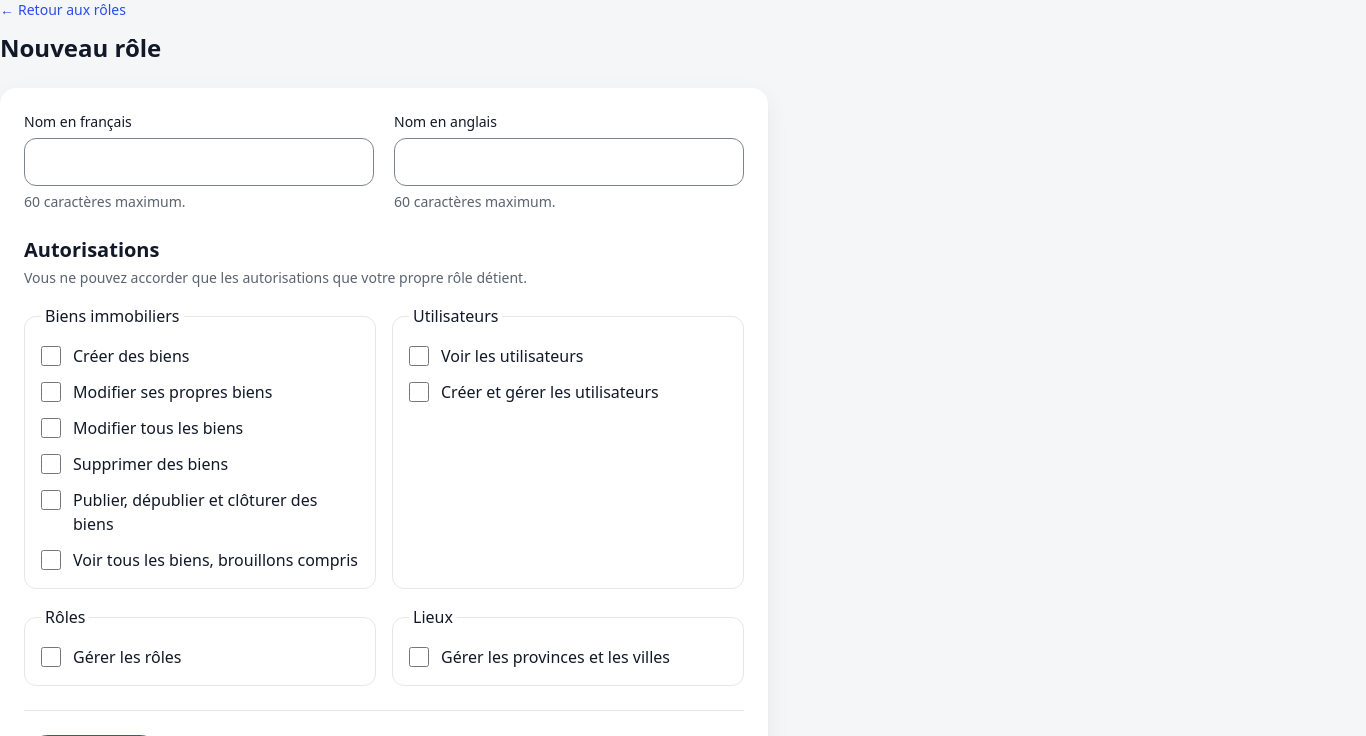
Test: RoleForm (fr) › new role › shows server errors in the current language
The width and height of the screenshot is (1366, 736).
Clear the field labelled "Nom en français" at (199, 162), box [24,138,374,186]
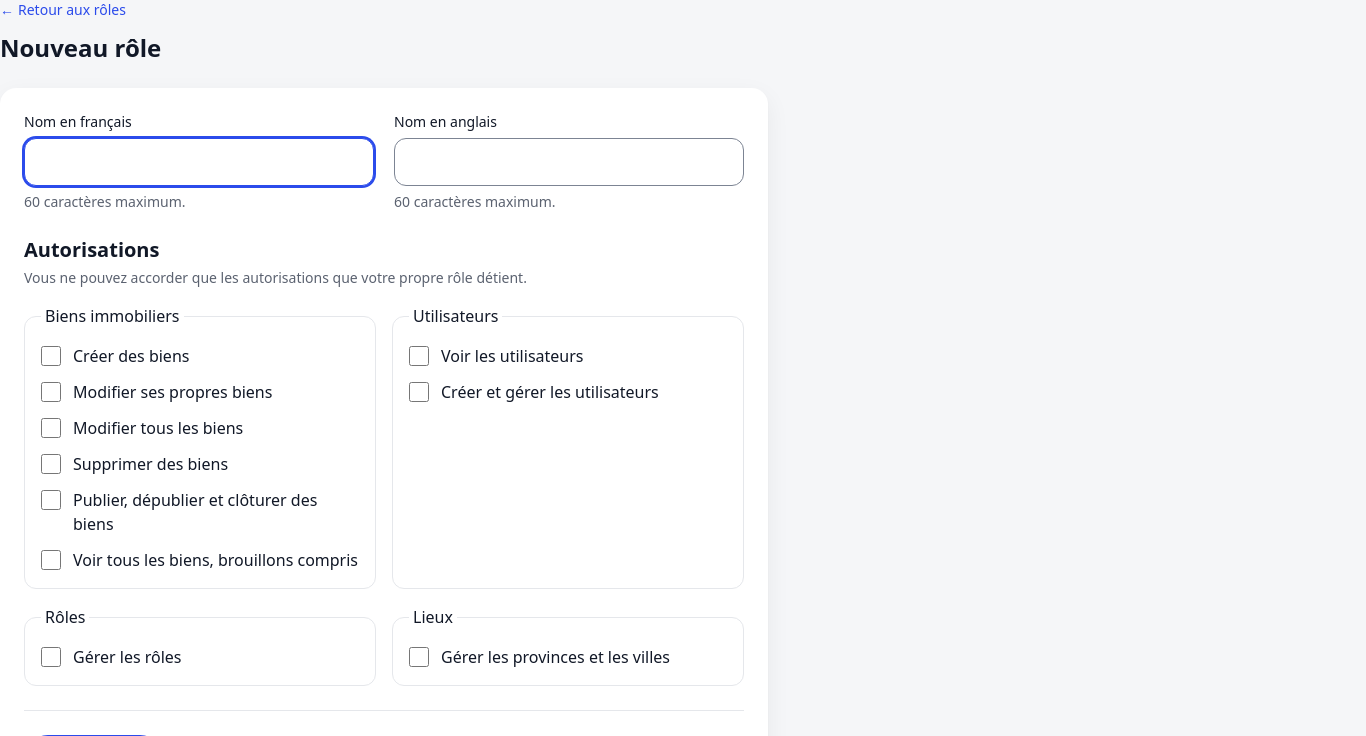
Clear the field labelled "Nom en anglais" at (569, 162), box [394,138,744,186]
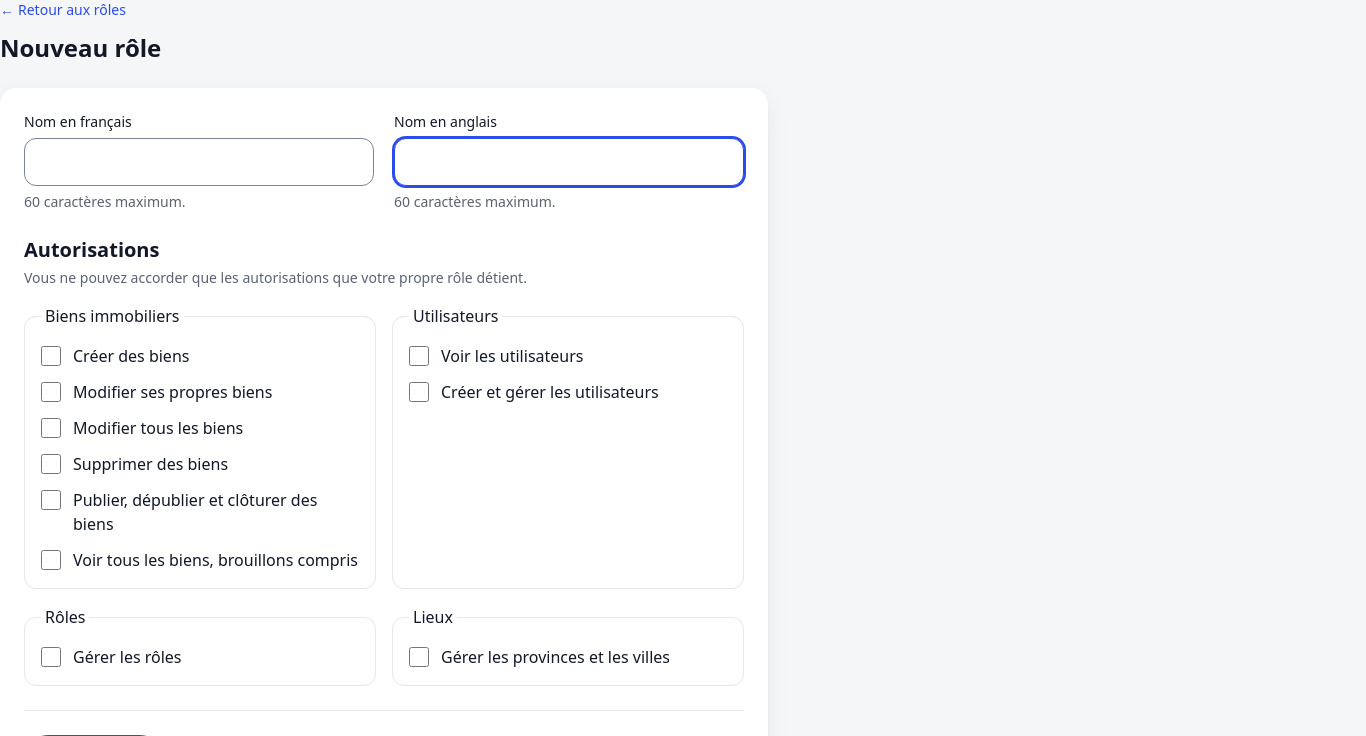
Type "Rédacteur" into the field labelled "Nom en français" at (199, 162), box [24,138,374,186]
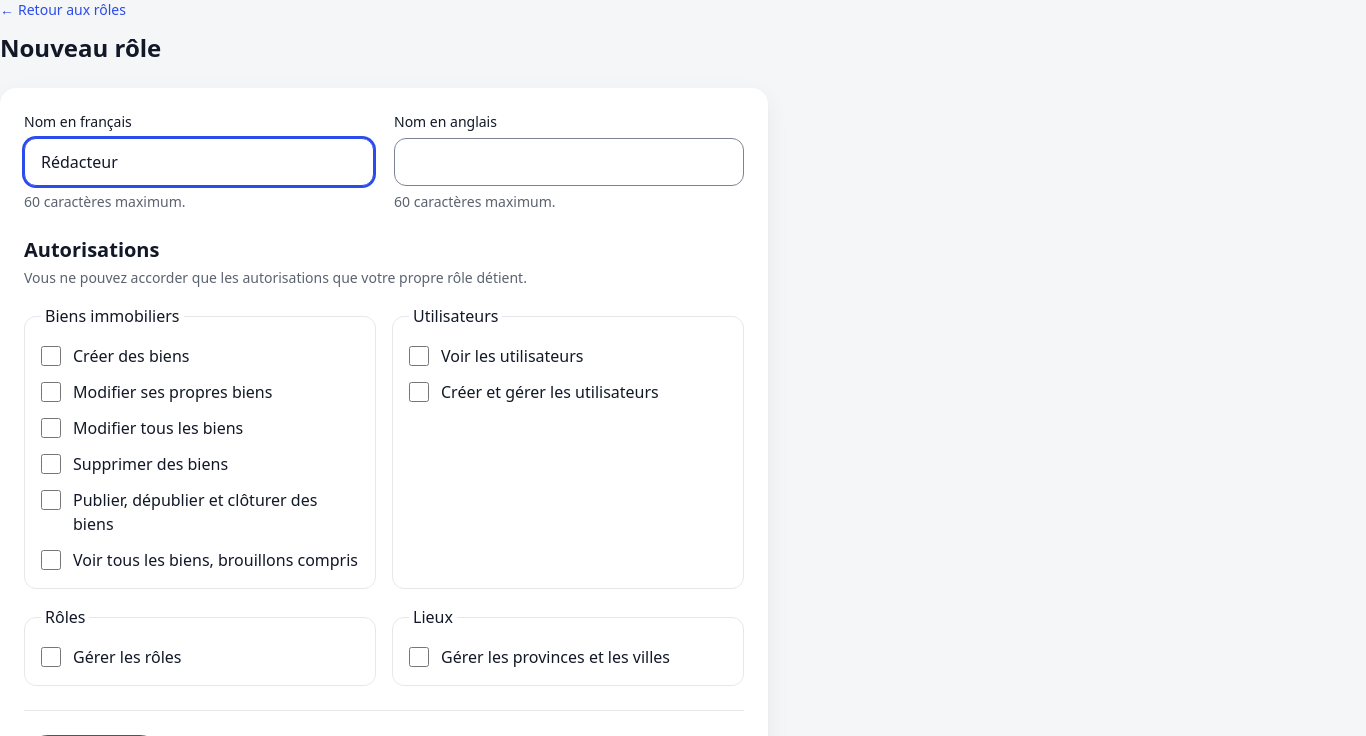
Type "Writer" into the field labelled "Nom en anglais" at (569, 162), box [394,138,744,186]
(page scrolled)
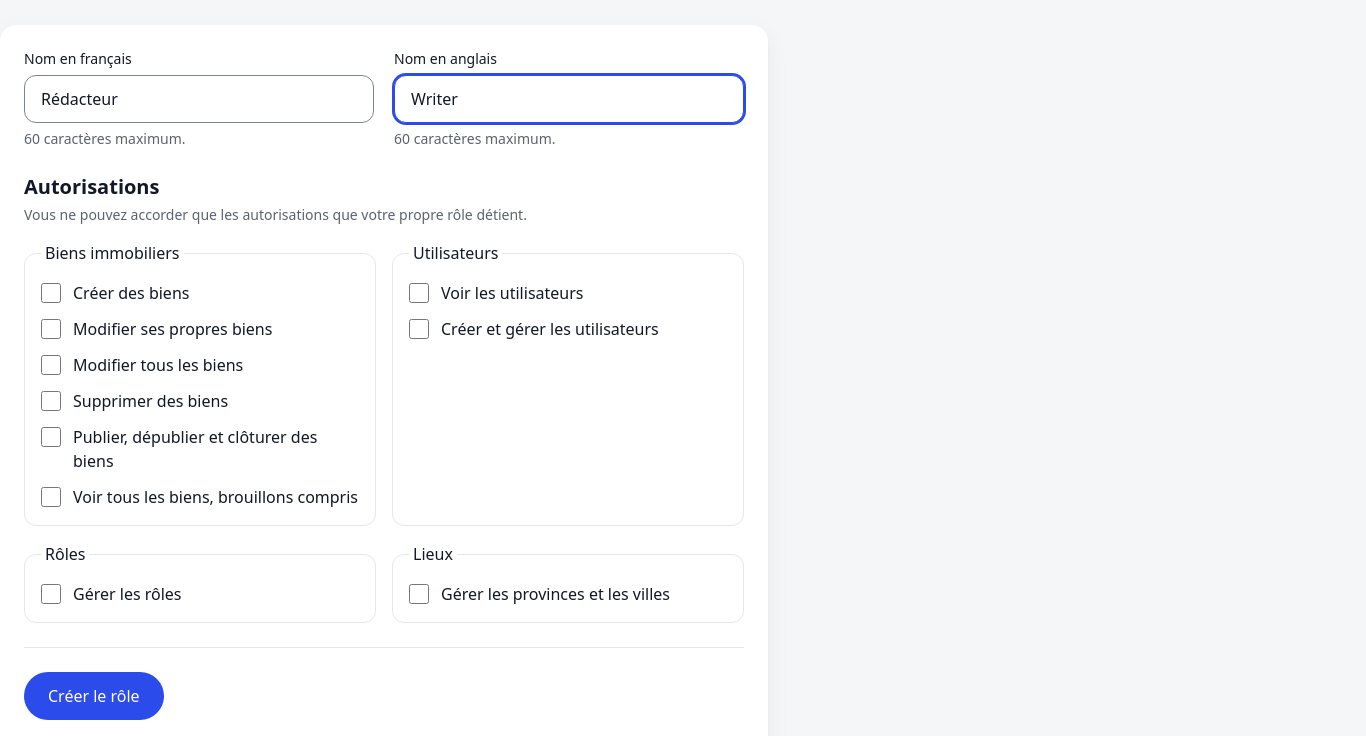
Click the button "Créer le rôle" at (94, 696), box [24,672,164,720]
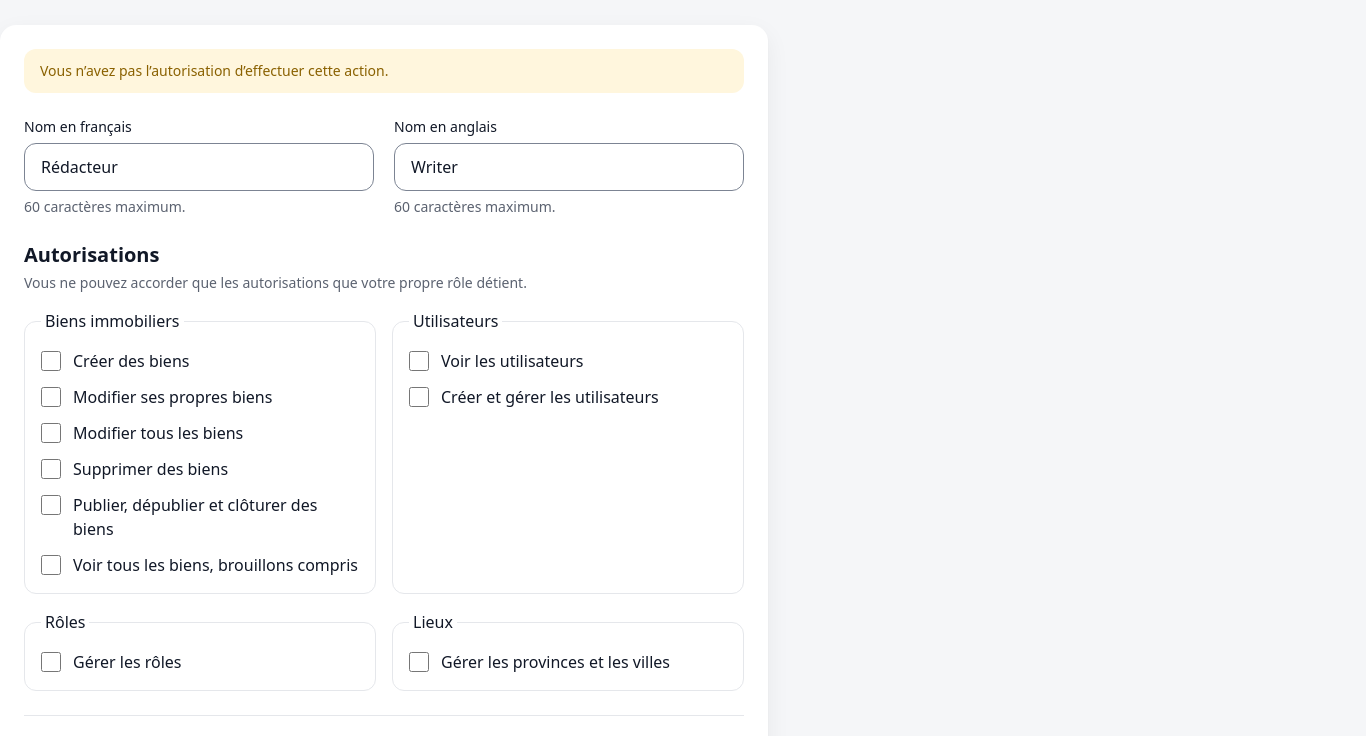
Now the message reads "Vous n’avez pas l’autorisation d’effectuer cette action.", box [40,61,388,80]
